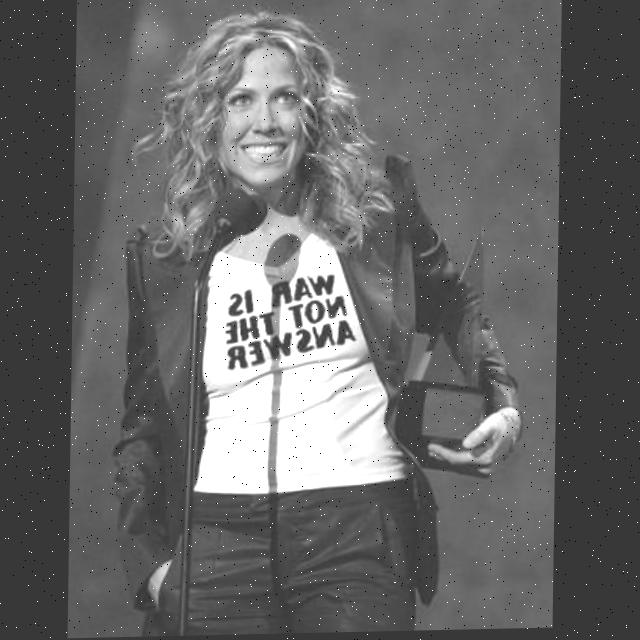face: (205, 29, 305, 204)
